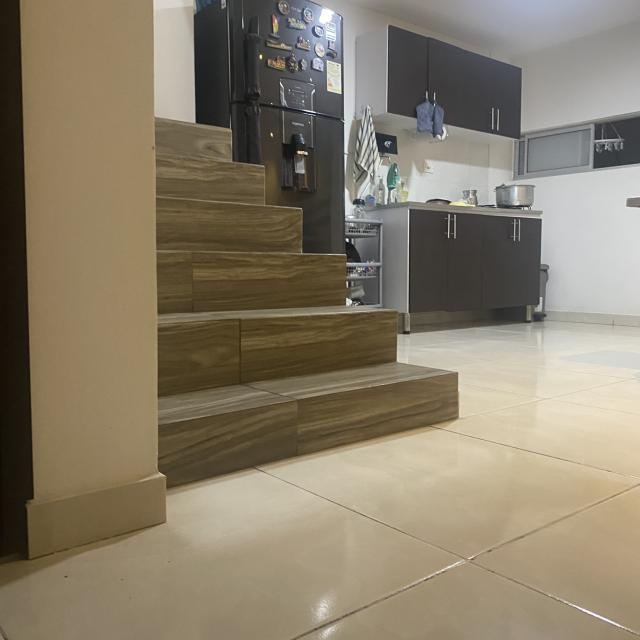obstacle: (366, 188, 562, 328)
stair: (103, 116, 465, 508)
